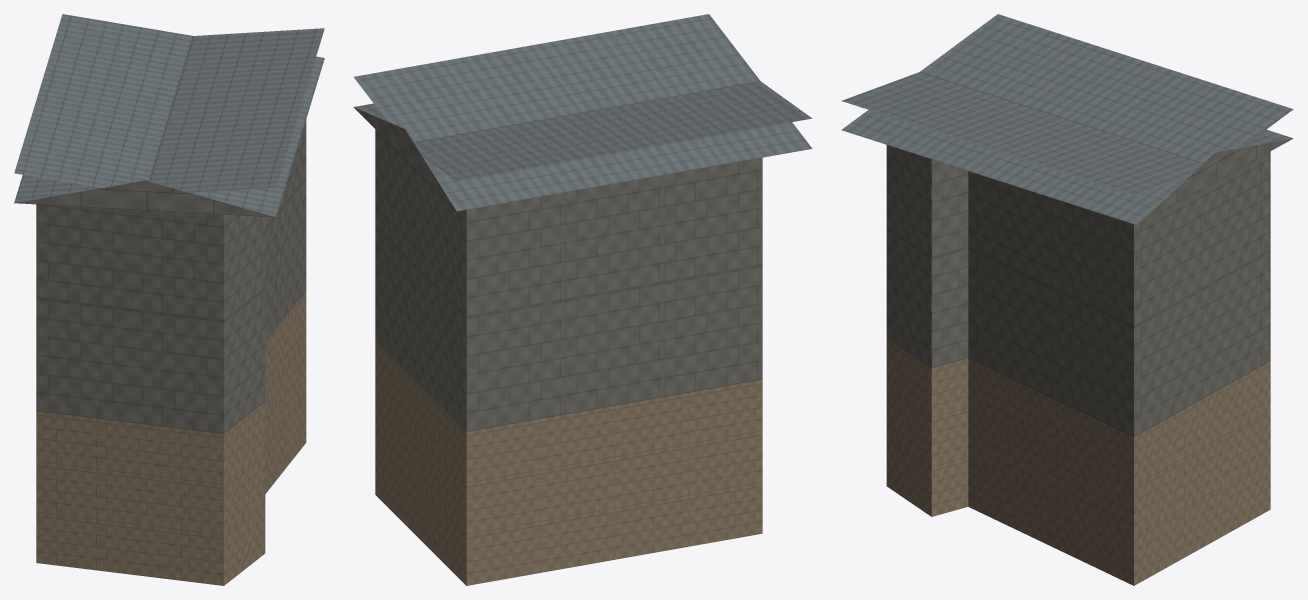
File: bld_c-11_35_470.gltf
3 renders of one model, left to right at view 1: azimuth 30°, elevation 25°; view 2: azimuth 150°, elevation 25°; view 3: azimuth 270°, elevation 25°, orthographic. The views are drawn at different scales.
Visible parts, largest first — view 1: bld_c-11_35_470; view 2: bld_c-11_35_470; view 3: bld_c-11_35_470.
Boxes of the visible parts, bbox=[...] form: bld_c-11_35_470: bbox=[14, 14, 324, 585]; bld_c-11_35_470: bbox=[353, 14, 812, 585]; bld_c-11_35_470: bbox=[841, 14, 1293, 585].
Size of the model in its own units: 13.41 by 13.7 by 14.08.
4 materials, 4 textured.
